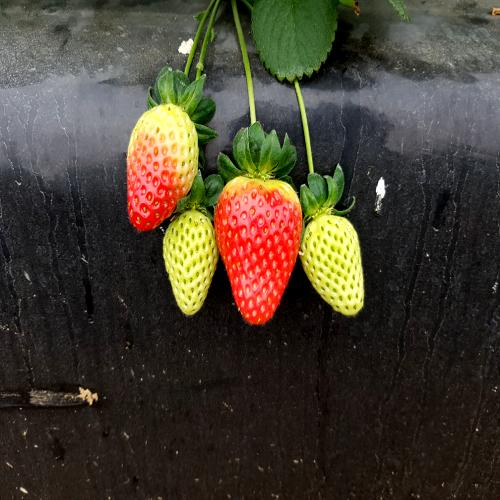partially-ripe: (118, 95, 203, 240)
ripe: (213, 163, 306, 336)
